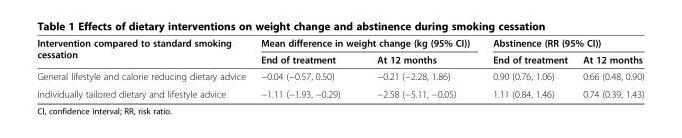table: (36, 36, 643, 99)
table column: (36, 36, 252, 99), (357, 36, 480, 99), (252, 36, 357, 99), (480, 36, 574, 99), (574, 36, 643, 99)
table column header: (36, 36, 643, 67)
table row: (36, 50, 643, 67), (36, 67, 643, 84), (36, 84, 643, 99), (36, 36, 643, 50)
table spanning cell: (36, 36, 252, 67), (252, 36, 480, 50), (480, 36, 643, 50)
